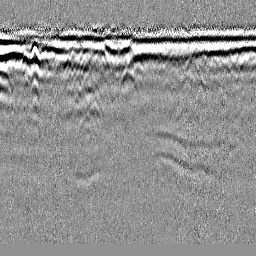cavity: (118, 67, 138, 94)
